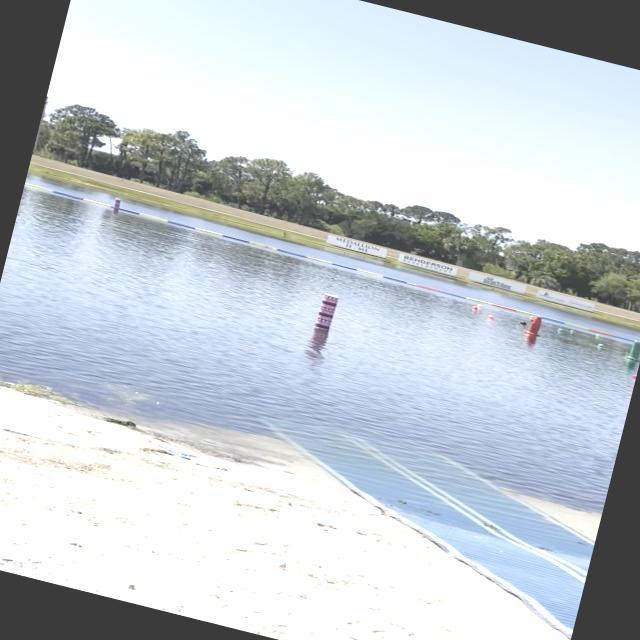buoy: (596, 342, 604, 347), (520, 320, 526, 325), (488, 314, 493, 319), (472, 305, 478, 309), (476, 304, 482, 308), (596, 333, 602, 337), (557, 328, 562, 332), (570, 329, 574, 332)
